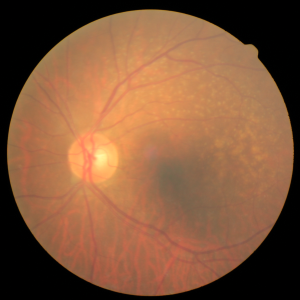retina_disease: (44, 109, 243, 218)
